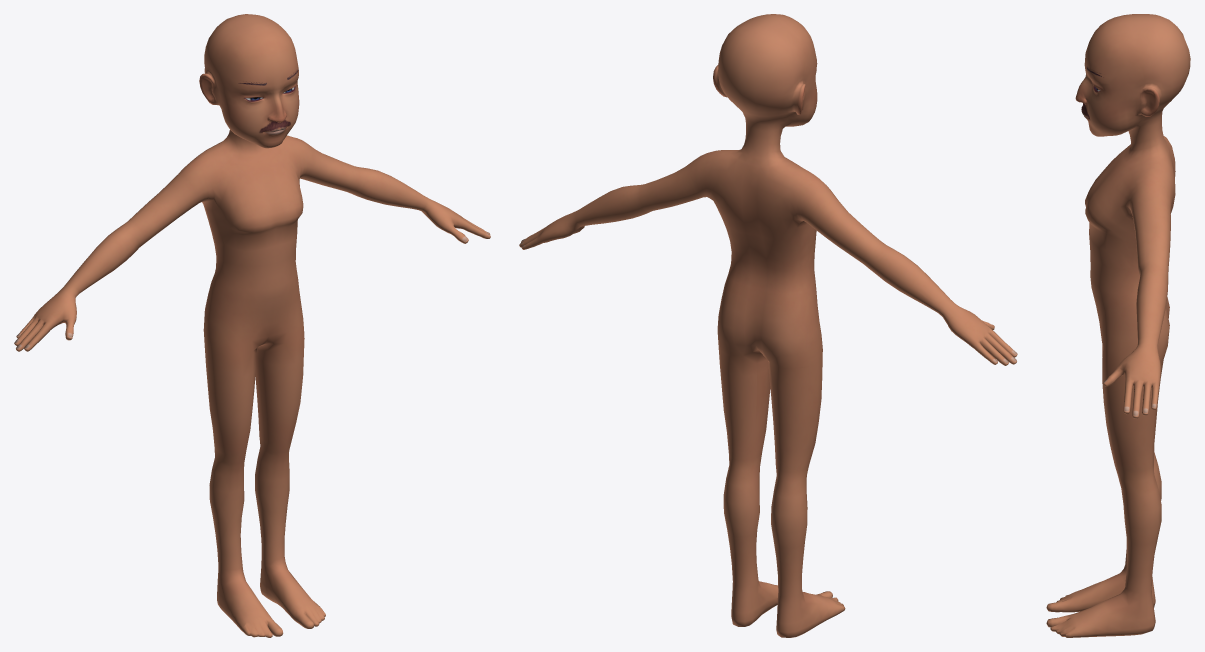
Rendered from frame_0046.glb.
The picture shows the model from 3 angles, left to right: view 1: azimuth 30°, elevation 25°; view 2: azimuth 150°, elevation 25°; view 3: azimuth 270°, elevation 25°; orthographic projection. The views are drawn at different scales.
Parts seen in each view (by area): view 1: frame_0046_head_geo; view 2: frame_0046_head_geo; view 3: frame_0046_head_geo.
Boxes of the visible parts, x1,y1,x2,y2 form: frame_0046_head_geo: [14, 14, 490, 637]; frame_0046_head_geo: [519, 14, 1017, 637]; frame_0046_head_geo: [1046, 14, 1190, 637].
Bounding box in the file's own units: 1.28 × 1.5 × 0.3253.
3 materials, 3 textured.
